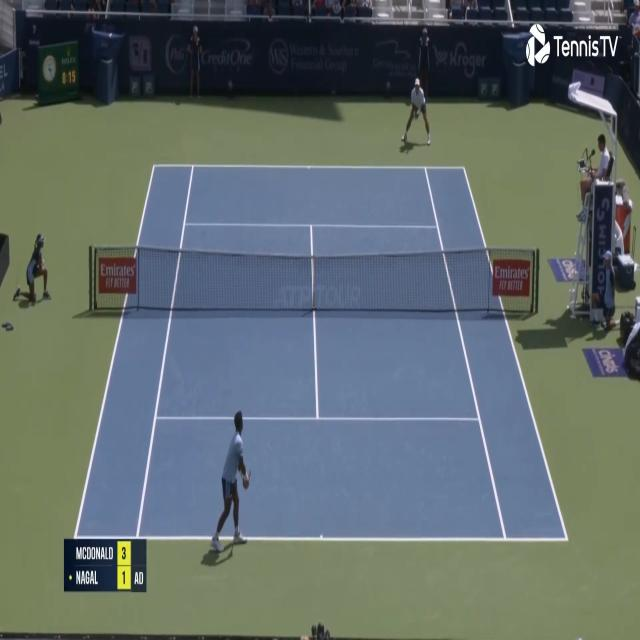tennis-player: (208, 407, 254, 558), (401, 75, 432, 147)
